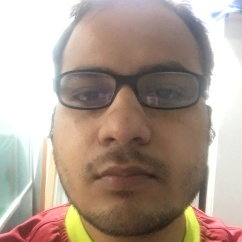glasses: (50, 69, 211, 112)
